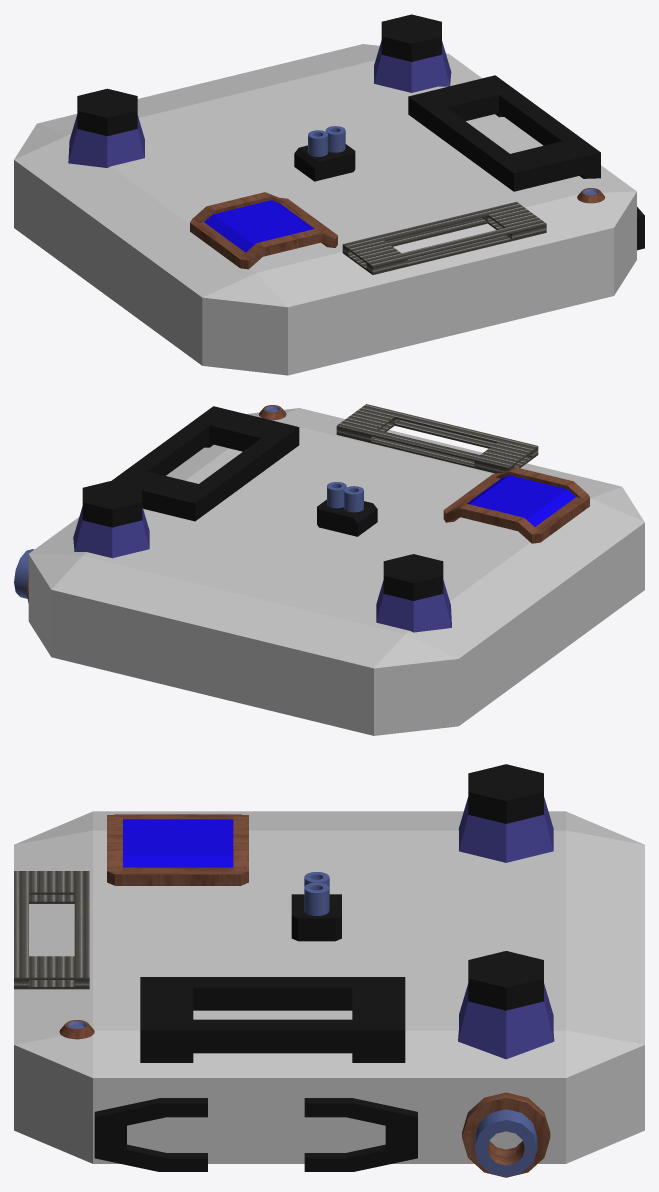
Rendered from BasicDesign.fbx.
The picture shows the model from 3 angles, top to bottom: view 1: azimuth 30°, elevation 25°; view 2: azimuth 150°, elevation 25°; view 3: azimuth 270°, elevation 25°; orthographic projection. The views are drawn at different scales.
Visible parts, largest first — view 1: mergedBlocks; view 2: mergedBlocks; view 3: mergedBlocks.
Part boxes in pixels (x1,y1,x2,y2): mergedBlocks: [14, 14, 644, 375]; mergedBlocks: [14, 404, 644, 735]; mergedBlocks: [14, 764, 644, 1177].
Size of the model in its own units: 53 by 15 by 50.
